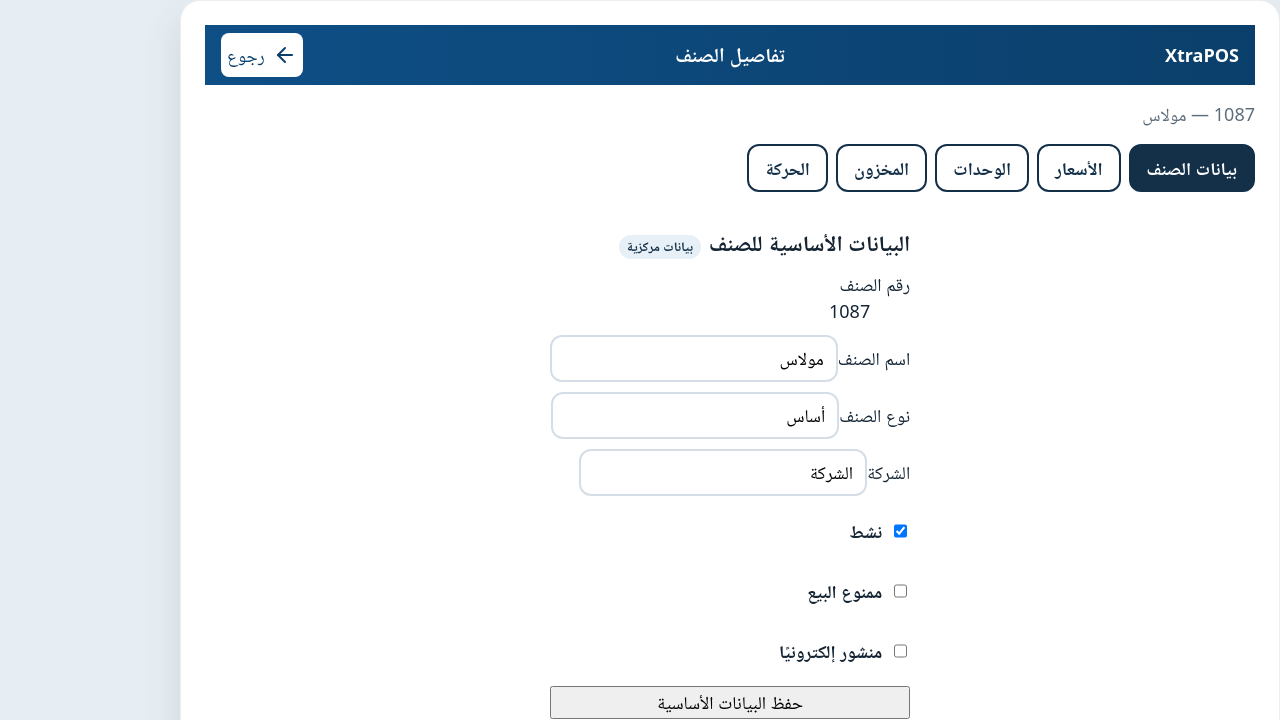
Test case: item ownership screen › shows central and branch ownership on a linked branch
expect the heading "البيانات الأساسية للصنف بيانات مركزية" is shown: met, box x1=618 y1=227 x2=910 y2=258
expect the text "بيانات مركزية" is shown: met, box x1=618 y1=235 x2=701 y2=258
Click the tab "الأسعار" at (1079, 168), box x1=1037 y1=144 x2=1121 y2=192
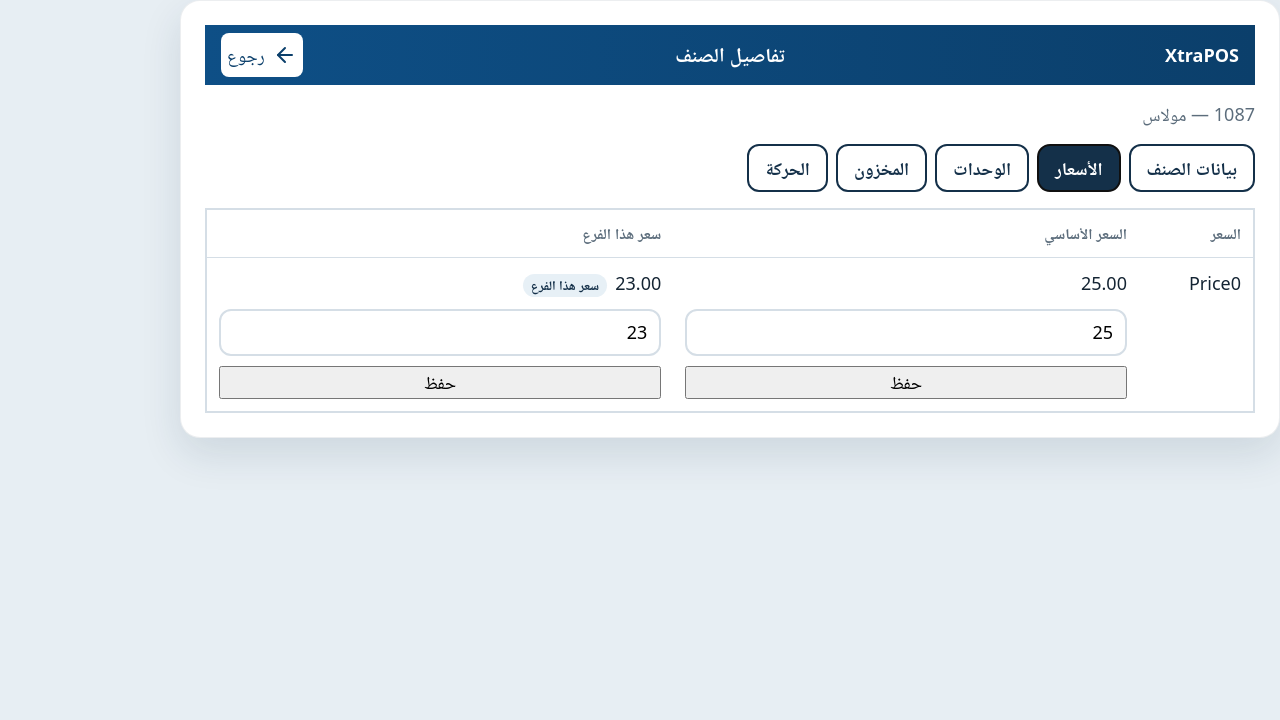
expect the column heading "السعر الأساسي" is shown: met, box x1=673 y1=209 x2=1139 y2=257
expect the column heading "سعر هذا الفرع" is shown: met, box x1=206 y1=209 x2=673 y2=257
expect the text "25.00" is shown: met, box x1=1081 y1=270 x2=1127 y2=294
Click the tab "الوحدات" at (982, 168), box x1=935 y1=144 x2=1029 y2=192
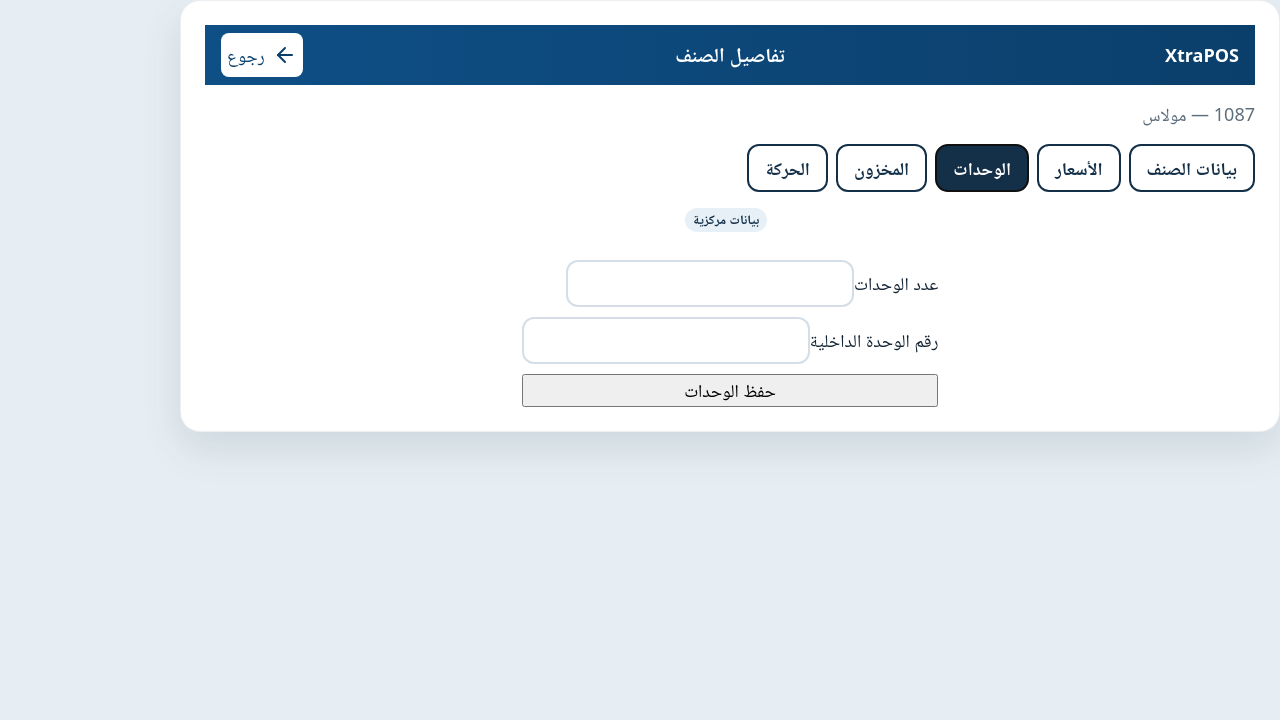
expect the text "بيانات مركزية" is shown: met, box x1=685 y1=208 x2=767 y2=232
